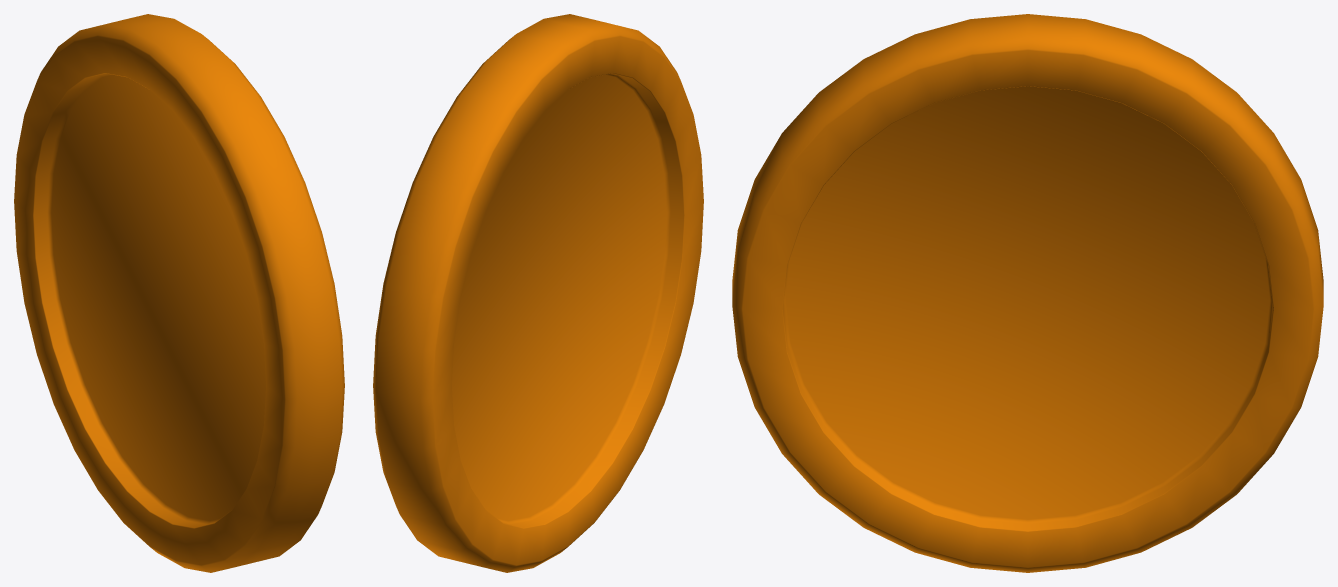
The model's file is münze.fbx.
3 views of the same model, side by side, from view 1: azimuth 30°, elevation 25°; view 2: azimuth 150°, elevation 25°; view 3: azimuth 270°, elevation 25° (orthographic). The views are drawn at different scales.
Visible parts, largest first — view 1: Cylinder.001; view 2: Cylinder.001; view 3: Cylinder.001.
Part boxes in pixels (bbox=[...]): Cylinder.001: bbox=[14, 14, 344, 572]; Cylinder.001: bbox=[373, 14, 703, 572]; Cylinder.001: bbox=[732, 14, 1323, 572].
Bounding box in the file's own units: 24.73 × 200 × 200.
